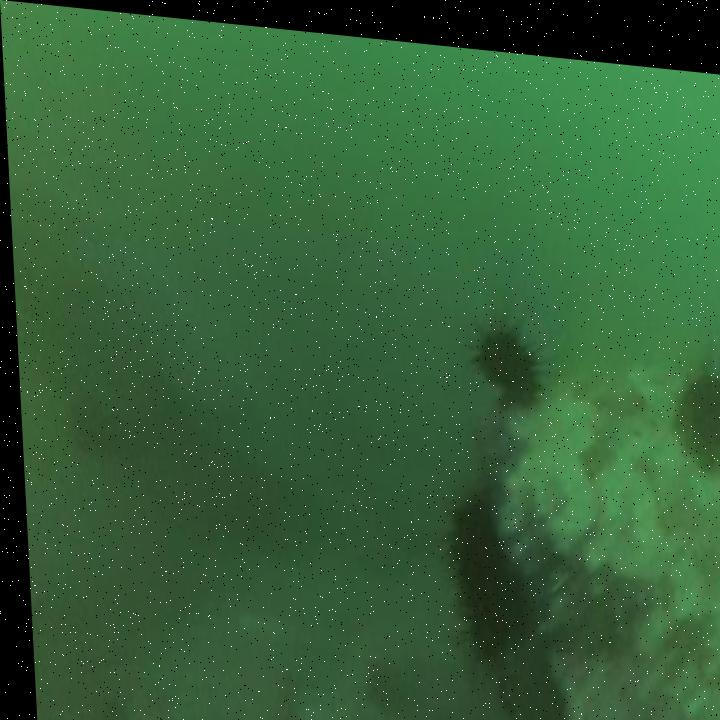echinus: (460, 551, 528, 646), (472, 317, 536, 400), (442, 490, 493, 579), (675, 356, 720, 443)
